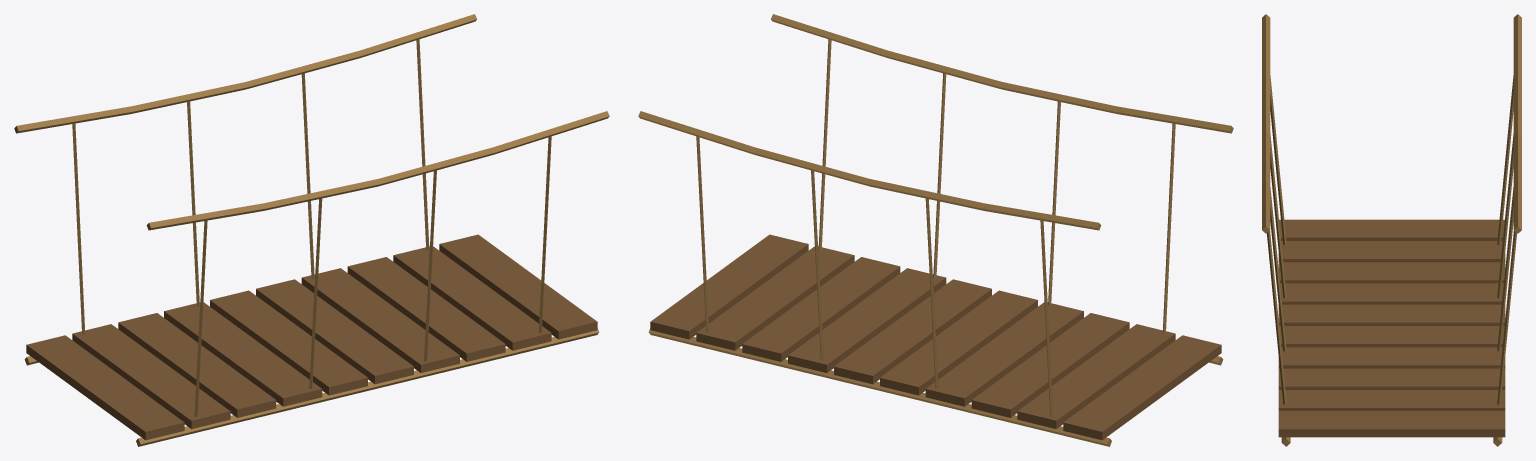
File: Prop_YTM_RopeBridge_Seg_S3_LOD1.glb
3 views of the same model, side by side, from view 1: azimuth 30°, elevation 25°; view 2: azimuth 150°, elevation 25°; view 3: azimuth 270°, elevation 25° (orthographic). The views are drawn at different scales.
Visible parts, largest first — view 1: Prop_YTM_RopeBridge_Seg_S3; view 2: Prop_YTM_RopeBridge_Seg_S3; view 3: Prop_YTM_RopeBridge_Seg_S3.
Boxes of the visible parts, x1=… form: Prop_YTM_RopeBridge_Seg_S3: x1=14, y1=14, x2=609, y2=446; Prop_YTM_RopeBridge_Seg_S3: x1=638, y1=14, x2=1233, y2=446; Prop_YTM_RopeBridge_Seg_S3: x1=1262, y1=14, x2=1521, y2=446.
Size of the model in its own units: 2 by 0.966 by 1.03.
